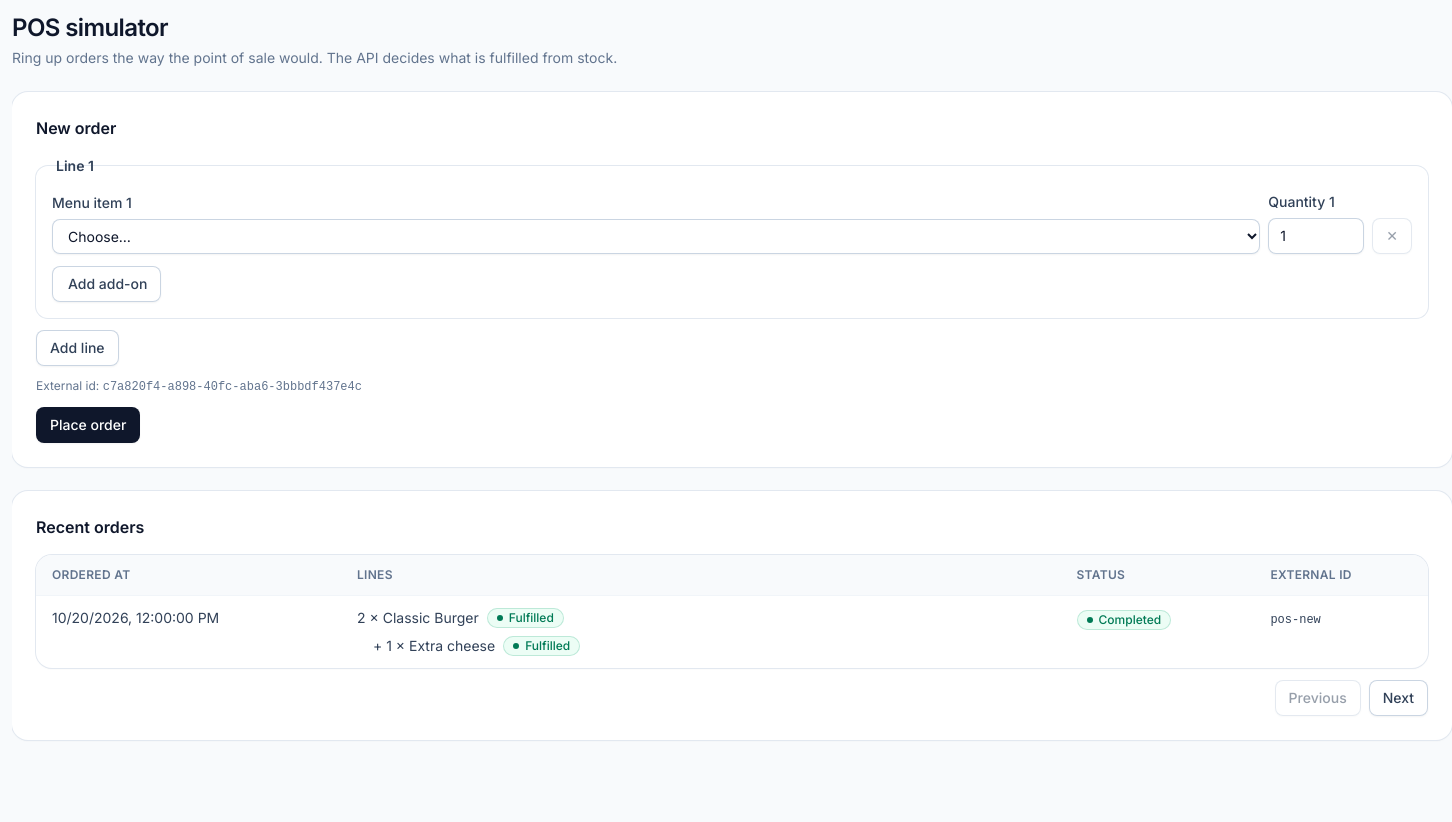
PosPage recent orders › lists orders with status, lines and add-ons and follows the next cursor
Check: the text "pos-new" shows "completed", box x1=1098 y1=612 x2=1161 y2=627
Click the button "Next".
click(1398, 698)  # box x1=1369 y1=680 x2=1428 y2=716
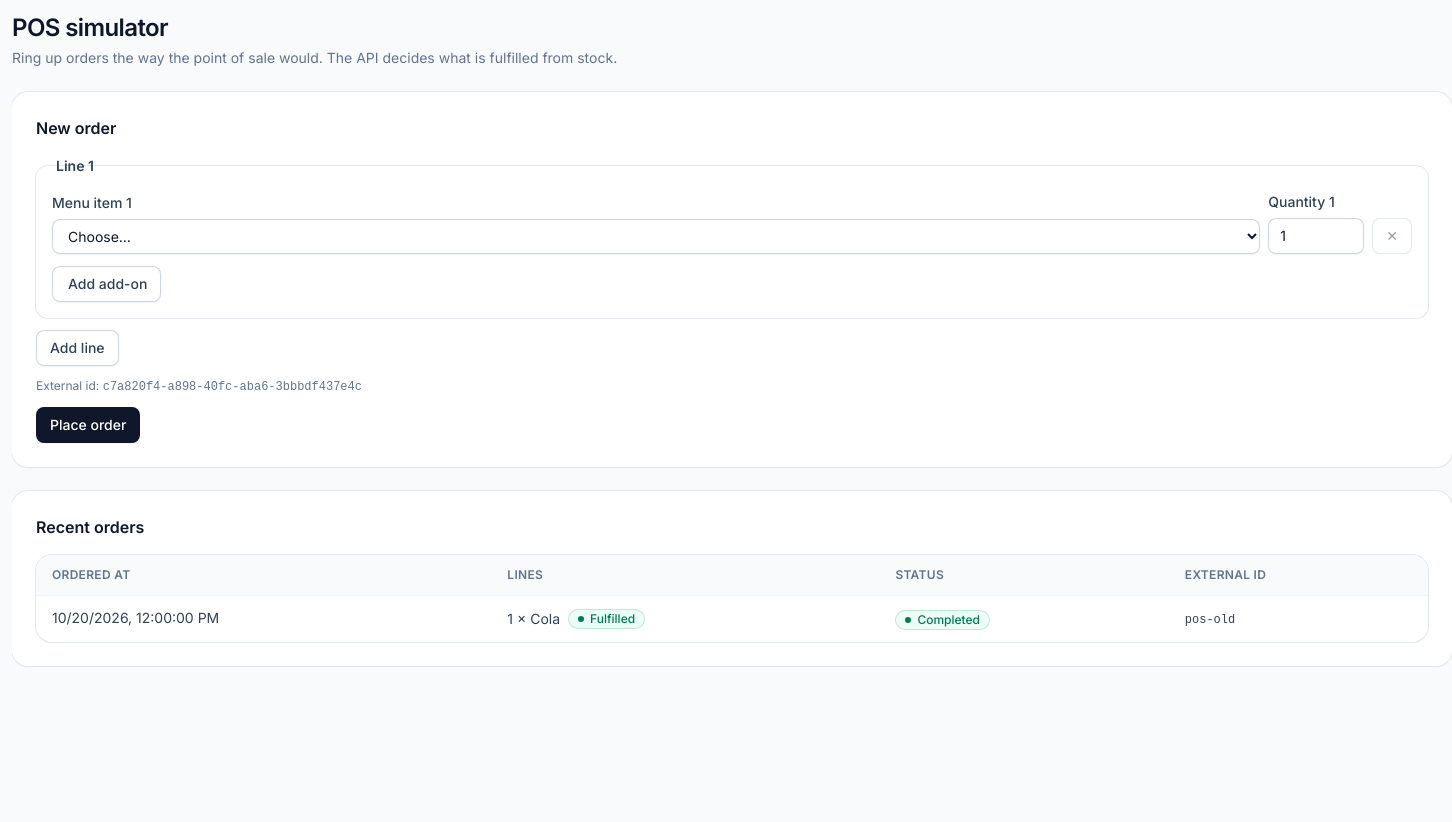
Check: the text "pos-old" is shown, box x1=1185 y1=613 x2=1235 y2=627
Check: the text "1 × Cola" is shown, box x1=507 y1=609 x2=560 y2=629
